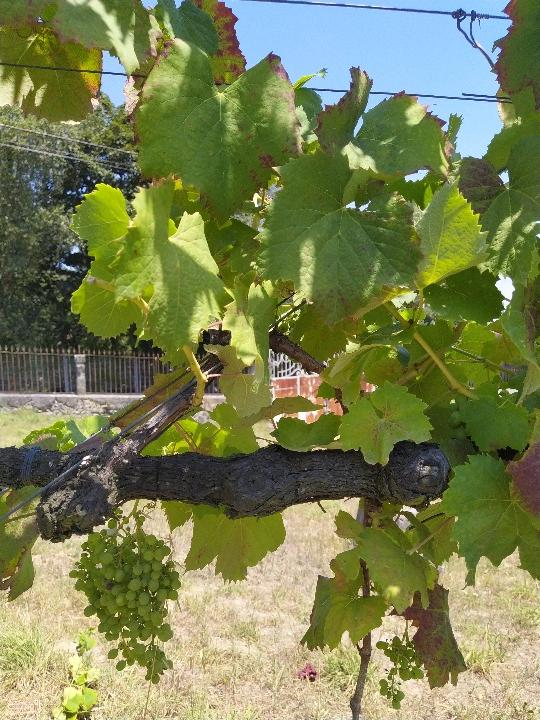grape: (63, 510, 178, 687), (375, 635, 424, 711)
